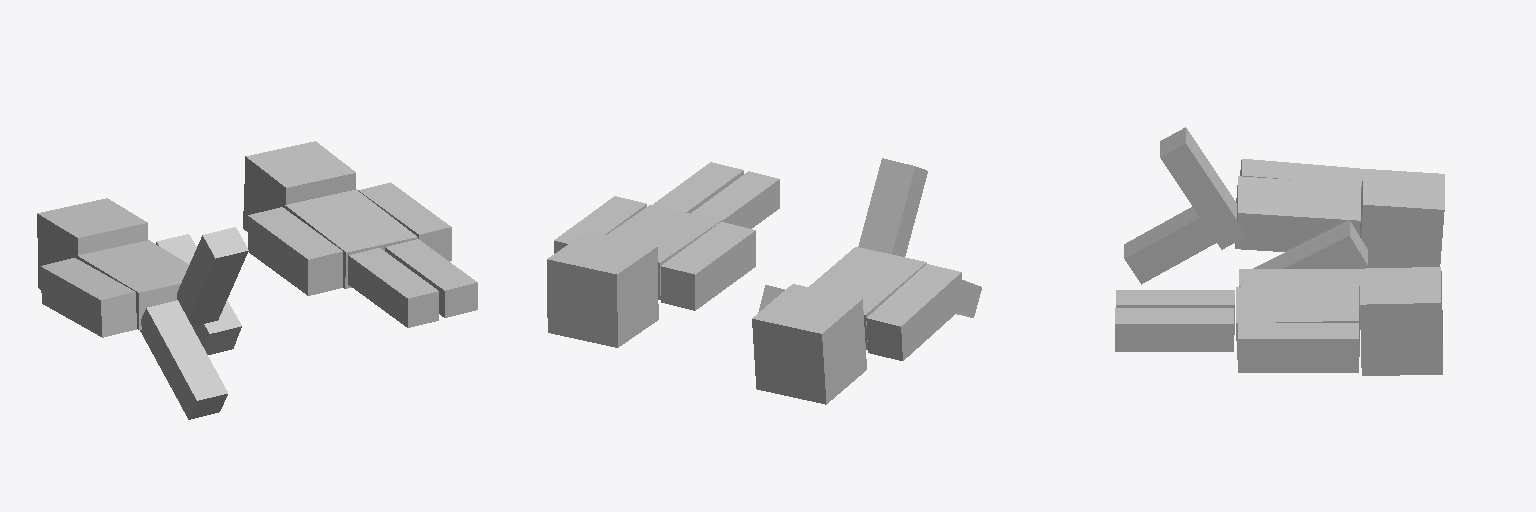
The model's file is steve_000040.obj.
3 views of the same model, side by side, from view 1: azimuth 30°, elevation 25°; view 2: azimuth 150°, elevation 25°; view 3: azimuth 270°, elevation 25° (orthographic).
Parts seen in each view (by area): view 1: Cube_Cube.001, Cube.001_Cube.002; view 2: Cube.001_Cube.002, Cube_Cube.001; view 3: Cube.001_Cube.002, Cube_Cube.001.
Part boxes in pixels (bbox=[...]): Cube_Cube.001: bbox=[37, 198, 248, 419]; Cube.001_Cube.002: bbox=[243, 141, 477, 327]; Cube.001_Cube.002: bbox=[547, 162, 779, 347]; Cube_Cube.001: bbox=[752, 158, 981, 404]; Cube.001_Cube.002: bbox=[1115, 267, 1442, 375]; Cube_Cube.001: bbox=[1124, 127, 1444, 284].
Size of the model in its own units: 6.55 by 2.87 by 5.36.